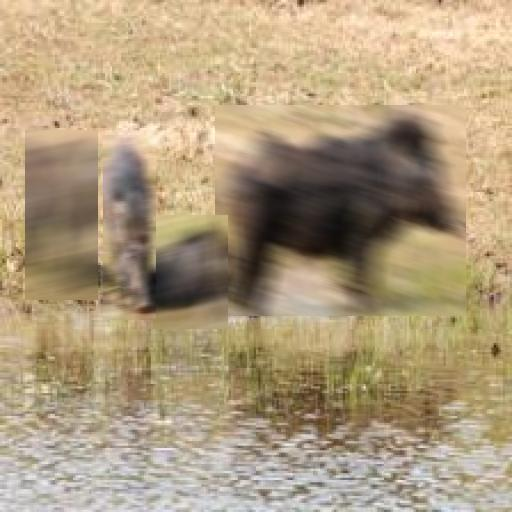Pig: (215, 105, 466, 316), (25, 130, 98, 300), (103, 135, 156, 320), (153, 215, 228, 329)
